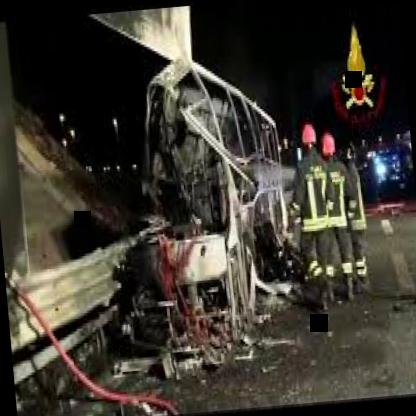accident: (112, 36, 306, 385)
